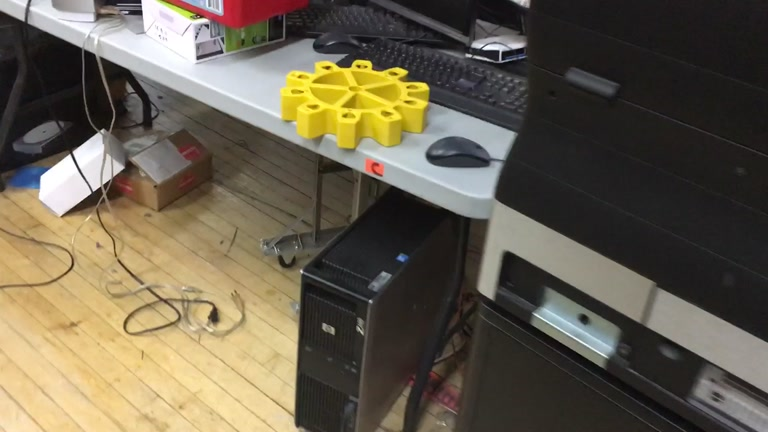gear: (279, 59, 431, 149)
